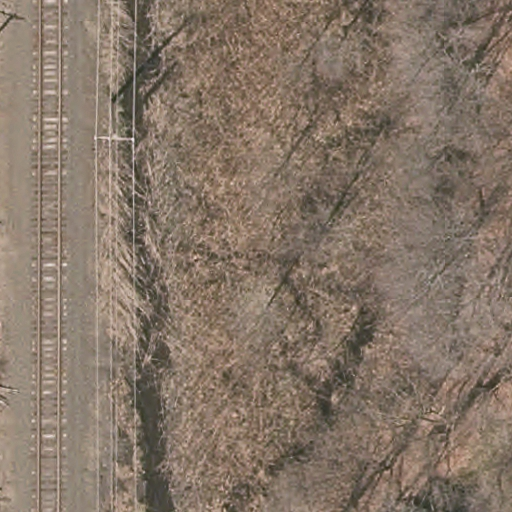DT: (92, 127, 141, 151)
